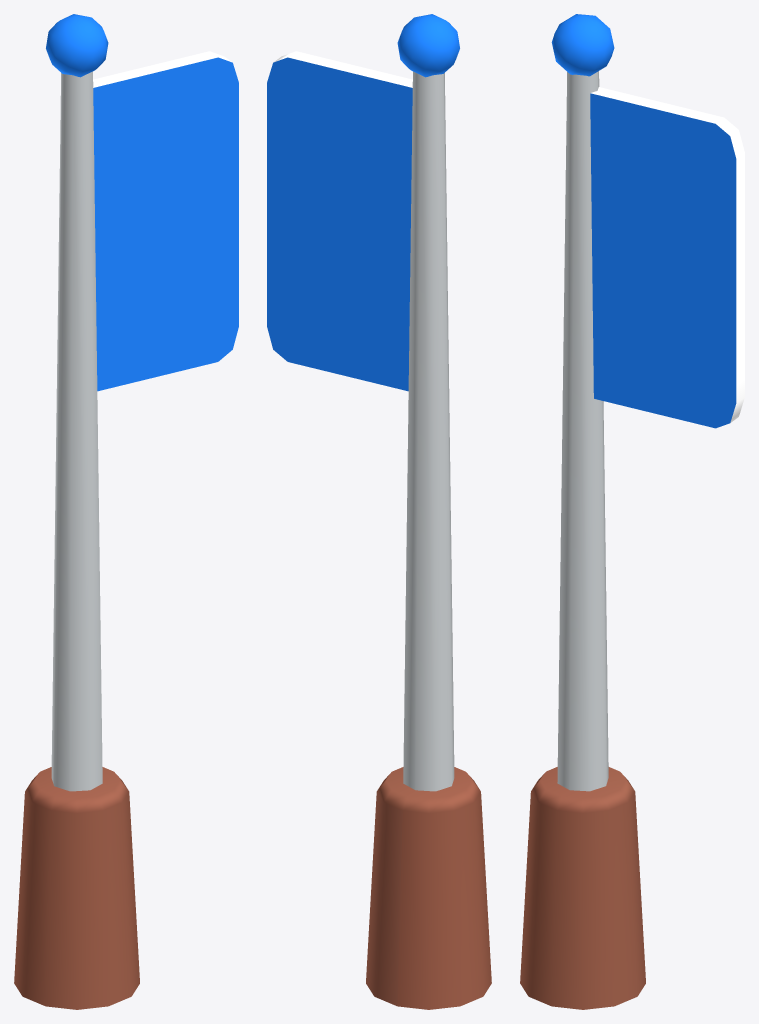
The model's file is flag_blue_001.glb.
The picture shows the model from 3 angles, left to right: view 1: azimuth 30°, elevation 25°; view 2: azimuth 150°, elevation 25°; view 3: azimuth 330°, elevation 25°; orthographic projection.
Visible parts, largest first — view 1: flag_blue_001; view 2: flag_blue_001; view 3: flag_blue_001.
Part boxes in pixels (x1,y1,x2,y2): flag_blue_001: [14, 14, 238, 1009]; flag_blue_001: [267, 14, 491, 1009]; flag_blue_001: [520, 14, 744, 1009].
Bounding box in the file's own units: 1.09 × 4.74 × 0.5606.
1 material, 1 textured.
